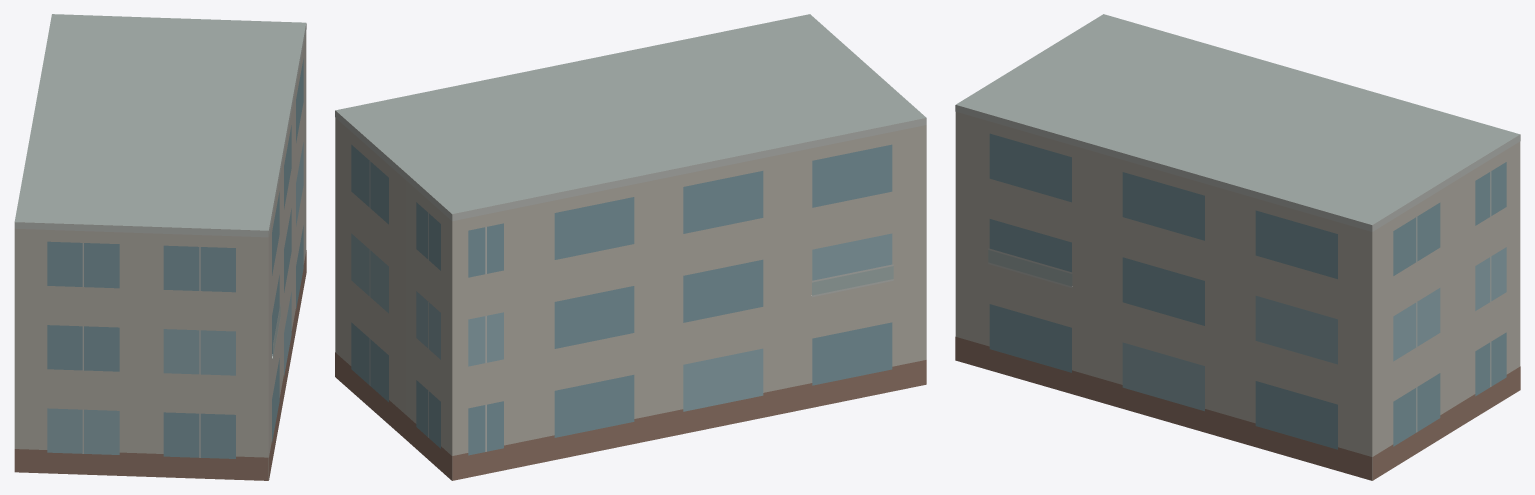
The model's file is survey-upis-32699843.glb.
3 renders of one model, left to right at view 1: azimuth 30°, elevation 25°; view 2: azimuth 150°, elevation 25°; view 3: azimuth 270°, elevation 25°, orthographic. The views are drawn at different scales.
Visible parts, largest first — view 1: survey-upis-32699843.tmp; view 2: survey-upis-32699843.tmp; view 3: survey-upis-32699843.tmp.
Boxes of the visible parts, box(x1,y1,x2,y2) form: survey-upis-32699843.tmp: box(14, 14, 306, 480); survey-upis-32699843.tmp: box(335, 14, 926, 480); survey-upis-32699843.tmp: box(955, 14, 1520, 480).
Size of the model in its own units: 16.21 by 9.15 by 18.33.
